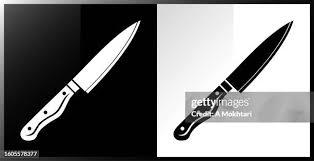Knife: (19, 19, 140, 141), (173, 20, 293, 140)
